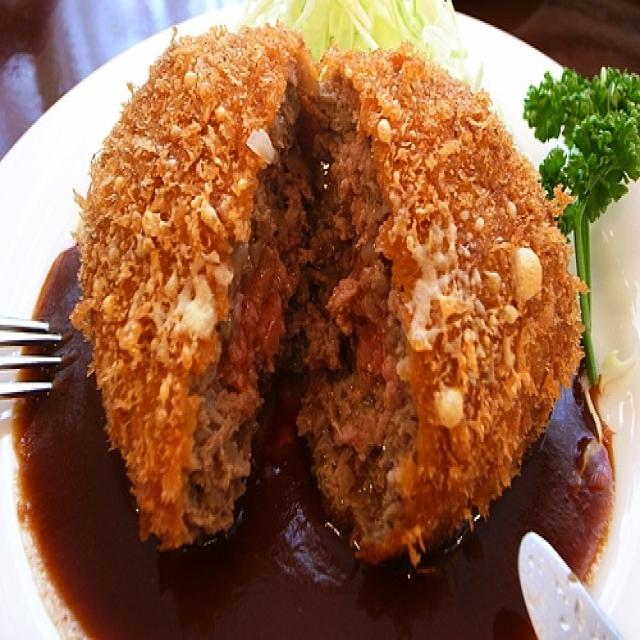炸货点心: (37, 4, 595, 601)
